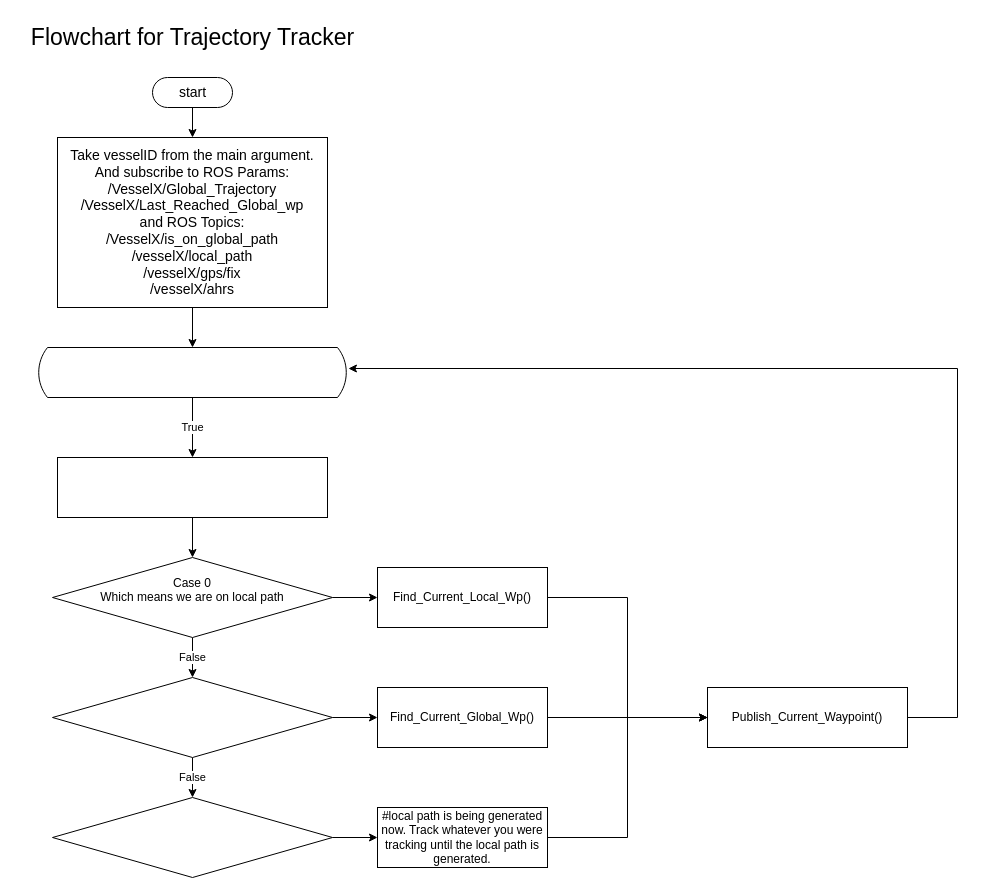
Image size: 983x895. Some labels were removed from this diagram. The centre of each missing label's shape, as x and y in pixels:
Case 1 Which means we are on global path .: point 192,717
Case 2 Which means we are generating local path right now: point 192,837
Switch /VesselX/is_on_global_path: point 192,487
While the global path is not completed: point 192,372
